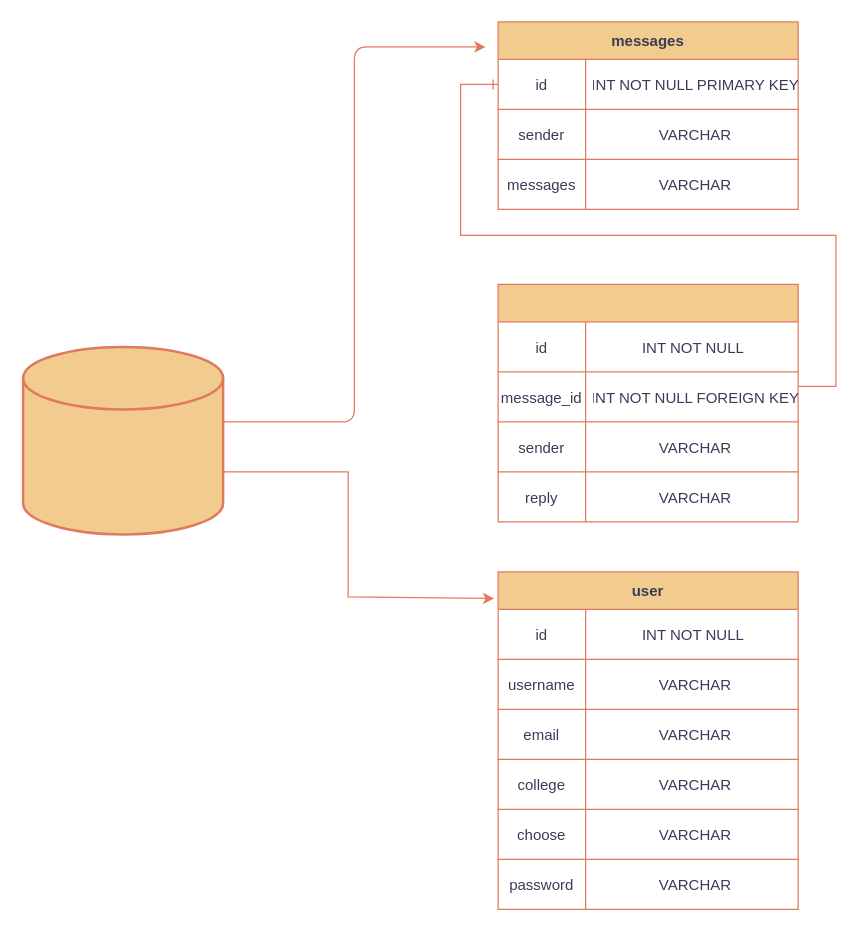
The diagram is 868 pixels wide and 931 high, and some of its shapes have lost their labels. Here are the shapes that lost their labels. From the top down, the box of each, then its label:
(497, 283, 798, 522): replies
(21, 345, 224, 535): DATABASE
